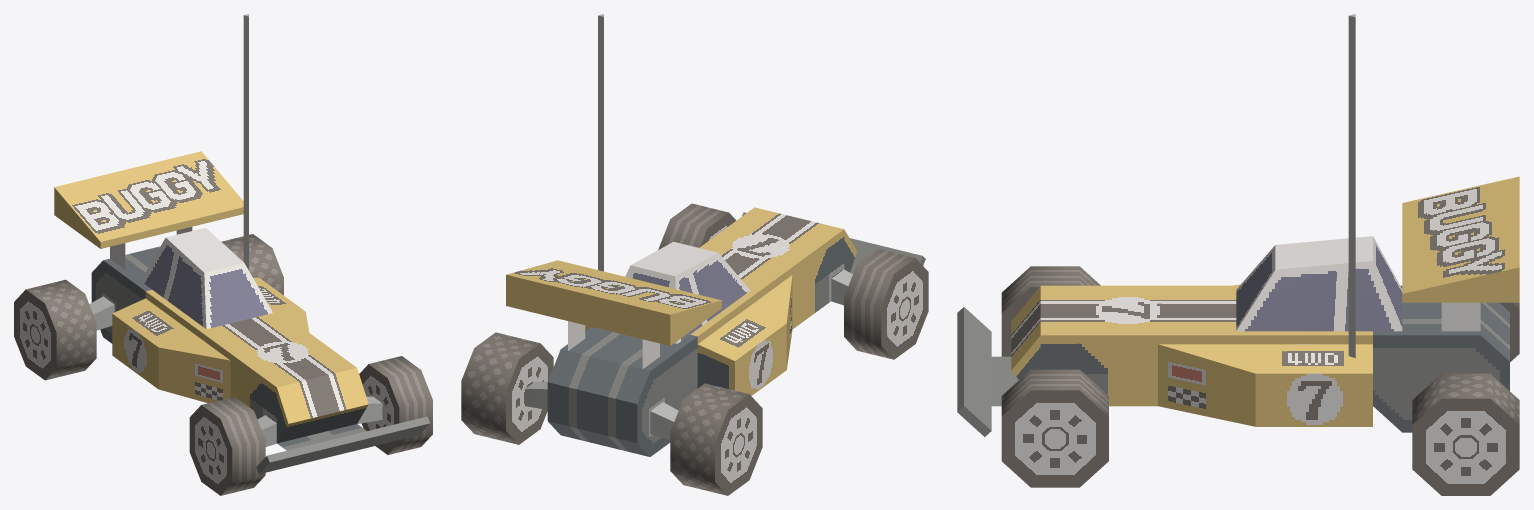
File: 0220_RC_Car.glb
The picture shows the model from 3 angles, left to right: view 1: azimuth 30°, elevation 25°; view 2: azimuth 150°, elevation 25°; view 3: azimuth 270°, elevation 25°; orthographic projection. The views are drawn at different scales.
Parts seen in each view (by area): view 1: part_0, part_1, part_2; view 2: part_0, part_2, part_1; view 3: part_0, part_1, part_2.
Part boxes in pixels (left/top/right/bottom): part_0: left=54, top=14, right=430, bottom=474; part_1: left=189, top=356, right=432, bottom=495; part_2: left=14, top=234, right=283, bottom=380; part_0: left=506, top=14, right=925, bottom=456; part_2: left=461, top=332, right=762, bottom=495; part_1: left=658, top=203, right=928, bottom=359; part_0: left=957, top=14, right=1519, bottom=436; part_1: left=1001, top=266, right=1108, bottom=487; part_2: left=1412, top=302, right=1519, bottom=495.
Size of the model in its own units: 0.2125 by 0.3125 by 0.3596.
Materials: 3 (3 with a texture image).
